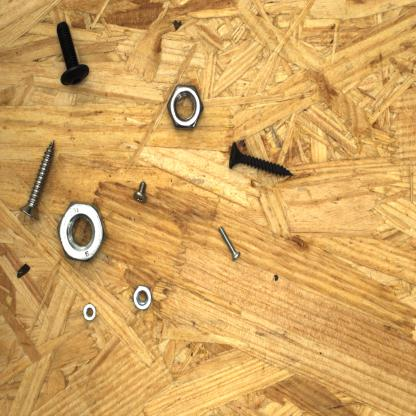screw: (18, 136, 58, 222), (227, 138, 295, 178), (53, 18, 92, 87), (216, 223, 242, 262), (130, 179, 150, 205)
